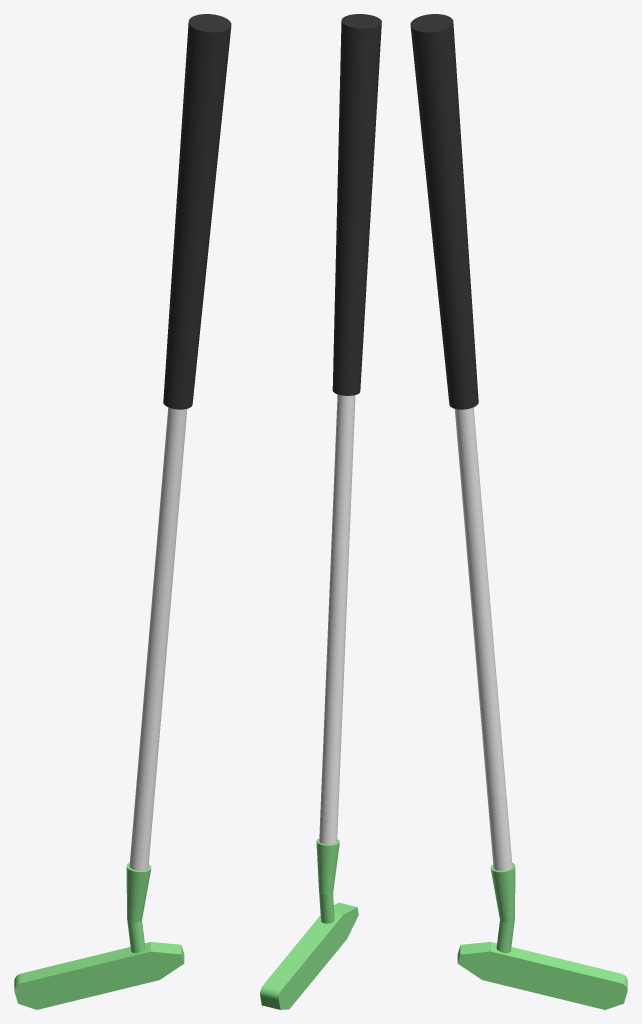
File: golfclub-new.fbx
3 views of the same model, side by side, from view 1: azimuth 90°, elevation 25°; view 2: azimuth 150°, elevation 25°; view 3: azimuth 270°, elevation 25° (orthographic). The views are drawn at different scales.
Visible parts, largest first — view 1: polySurface1, polySurface3, polySurface2, polySurface5; view 2: polySurface1, polySurface3, polySurface2, polySurface5, polySurface4; view 3: polySurface1, polySurface3, polySurface2, polySurface5.
Boxes of the visible parts, <box> form: polySurface1: <box>163,14,231,409</box>; polySurface3: <box>129,407,187,870</box>; polySurface2: <box>14,942,184,1009</box>; polySurface5: <box>126,863,151,922</box>; polySurface1: <box>332,14,381,395</box>; polySurface3: <box>319,394,355,844</box>; polySurface2: <box>260,902,358,1009</box>; polySurface5: <box>316,838,339,894</box>; polySurface4: <box>319,893,334,923</box>; polySurface1: <box>410,14,478,409</box>; polySurface3: <box>454,407,512,870</box>; polySurface2: <box>457,942,627,1009</box>; polySurface5: <box>490,863,515,922</box>.
Bounding box in the file's own units: 29.26 × 738 × 148.
